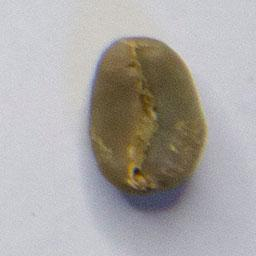premium: (85, 33, 210, 199)
